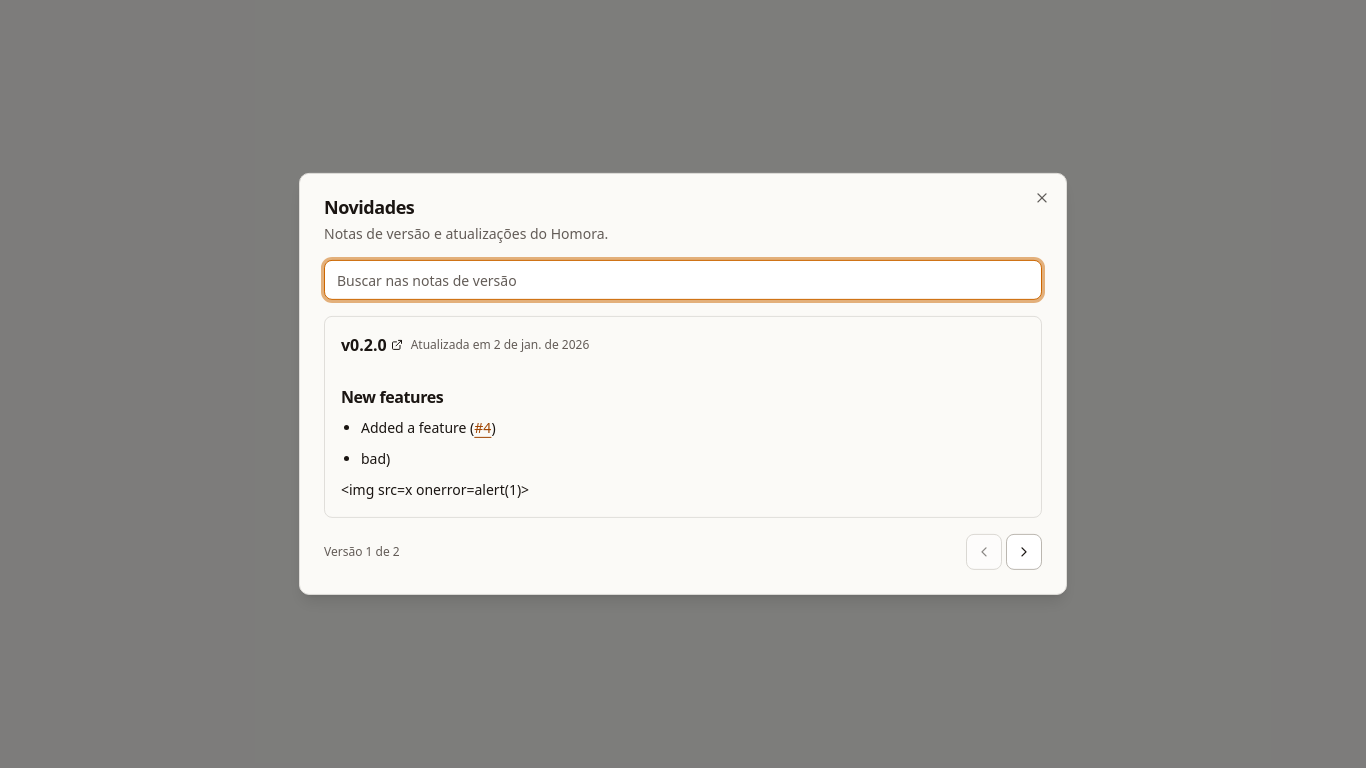
shows release notes, safe GitHub links and paginates to the installed version
Expected: the heading "New features" is shown, [341,386,443,408]
Click the button named "Próxima versão" at [1024, 552], box [1006,534,1042,570]
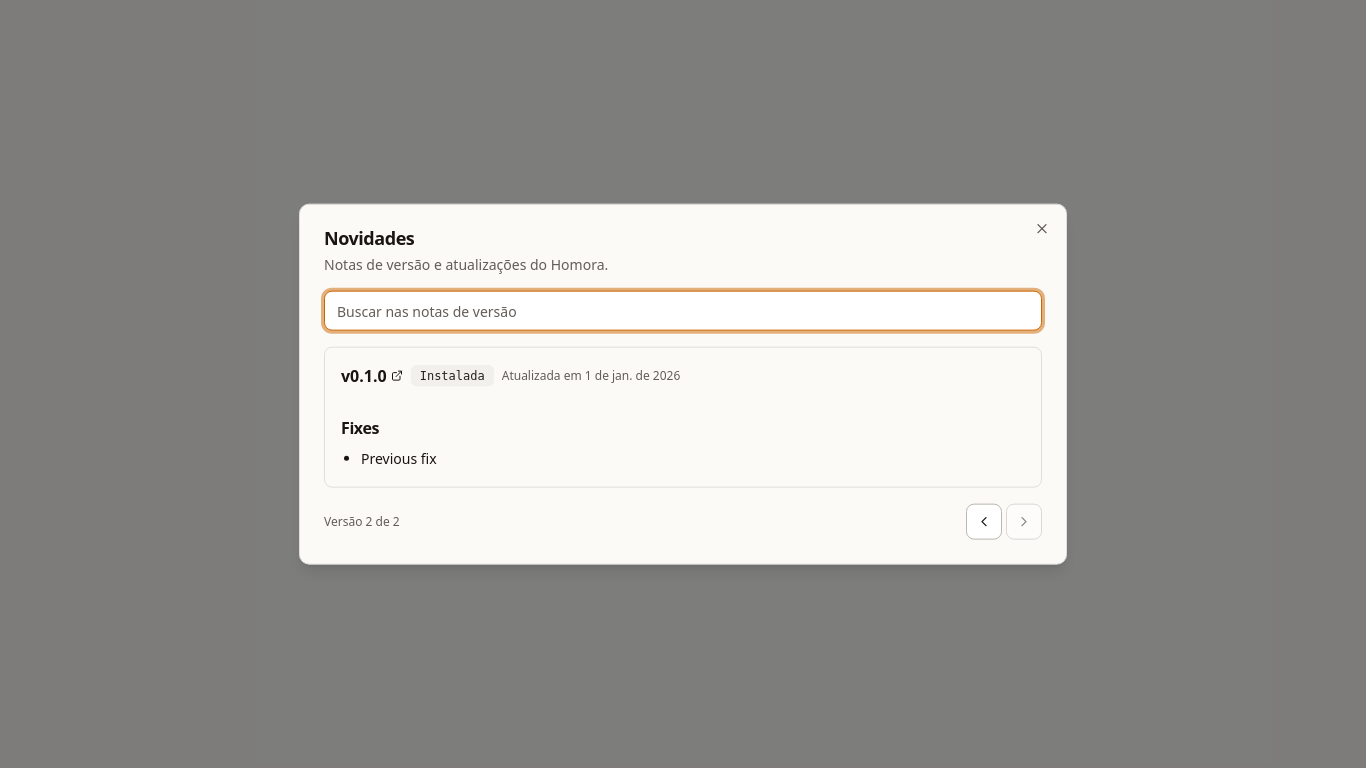
Result: the list item "Previous fix" is shown at [361,449,437,468]
Result: the text "Instalada" is shown at [411,365,494,387]
